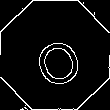O_N: (25, 23, 85, 87)
